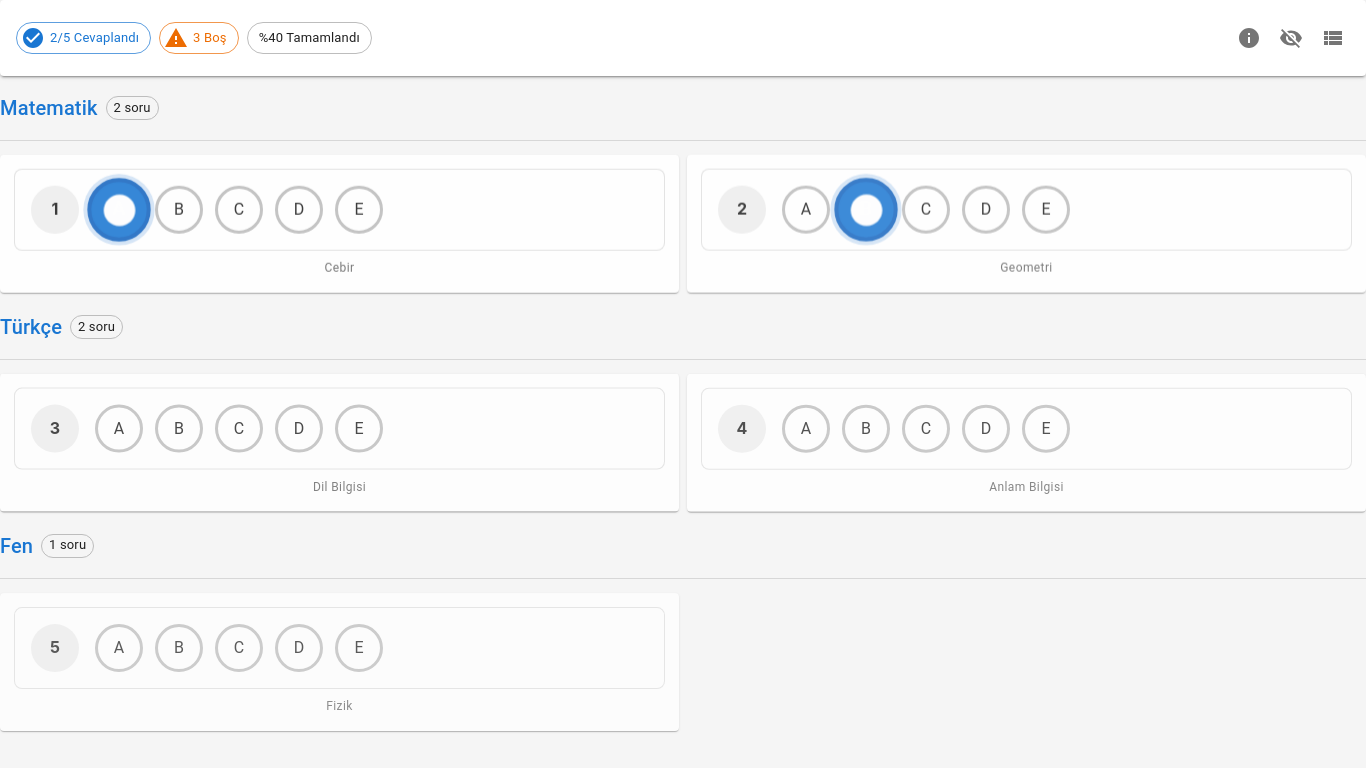
it: BubbleSheetPanel › Bilgi Dialog › bilgi dialogunu açar
The width and height of the screenshot is (1366, 768).
What coordinates should you click on to do the following:
click the button with test id "InfoIcon"
I would click on:
 (1249, 38)
Its box is [1232,16,1266,60].
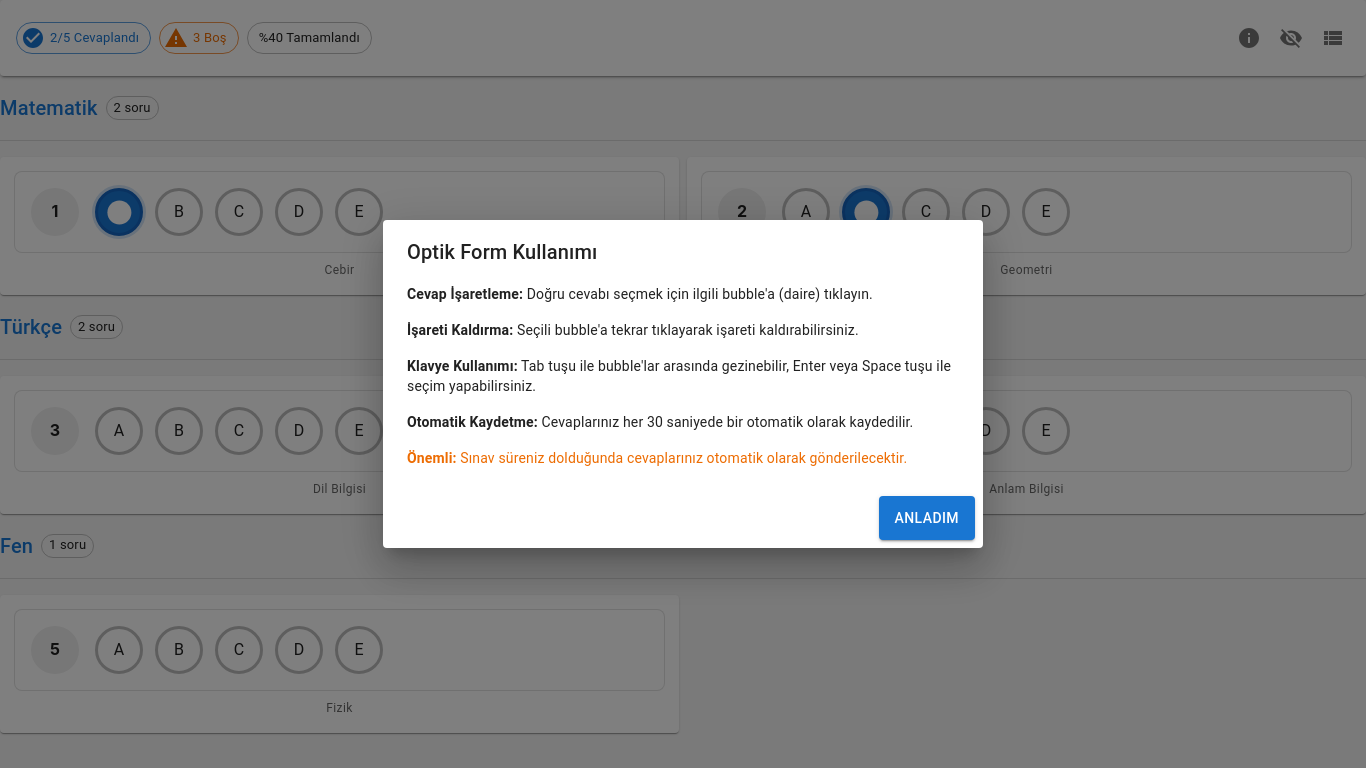
Check: the heading "Optik Form Kullanımı" is shown, box [407,240,598,264]
